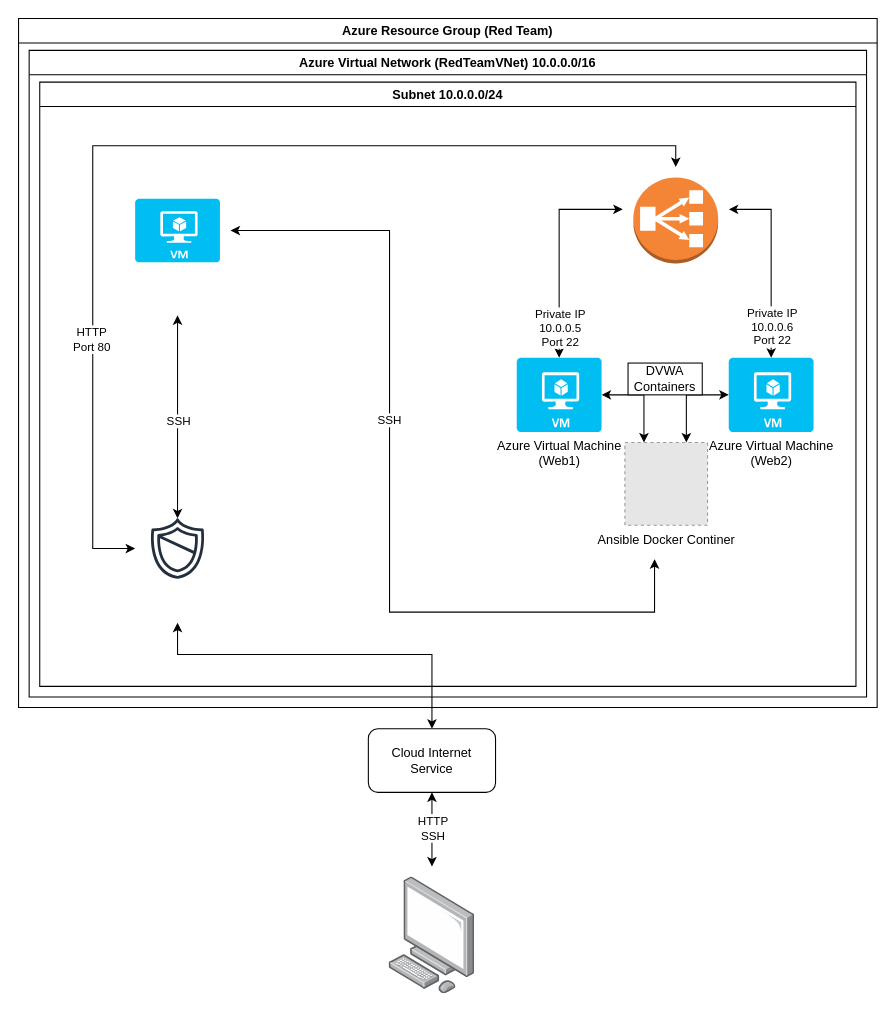
Some shapes in this 896 by 1035 pixel diagram are drawn without their labels. Grey dashed boxes stand in for pictures. Each missing label, with the centre of its shape:
"Azure Virtual Machine ( JumpBoxProvisioner)" goes at point (177, 230).
"Load Balancer (RedTeamLB) 52.237.214.16" goes at point (675, 219).
"My Local Machine" goes at point (431, 935).
"Network Security Group RedTeamNSG" goes at point (177, 548).
